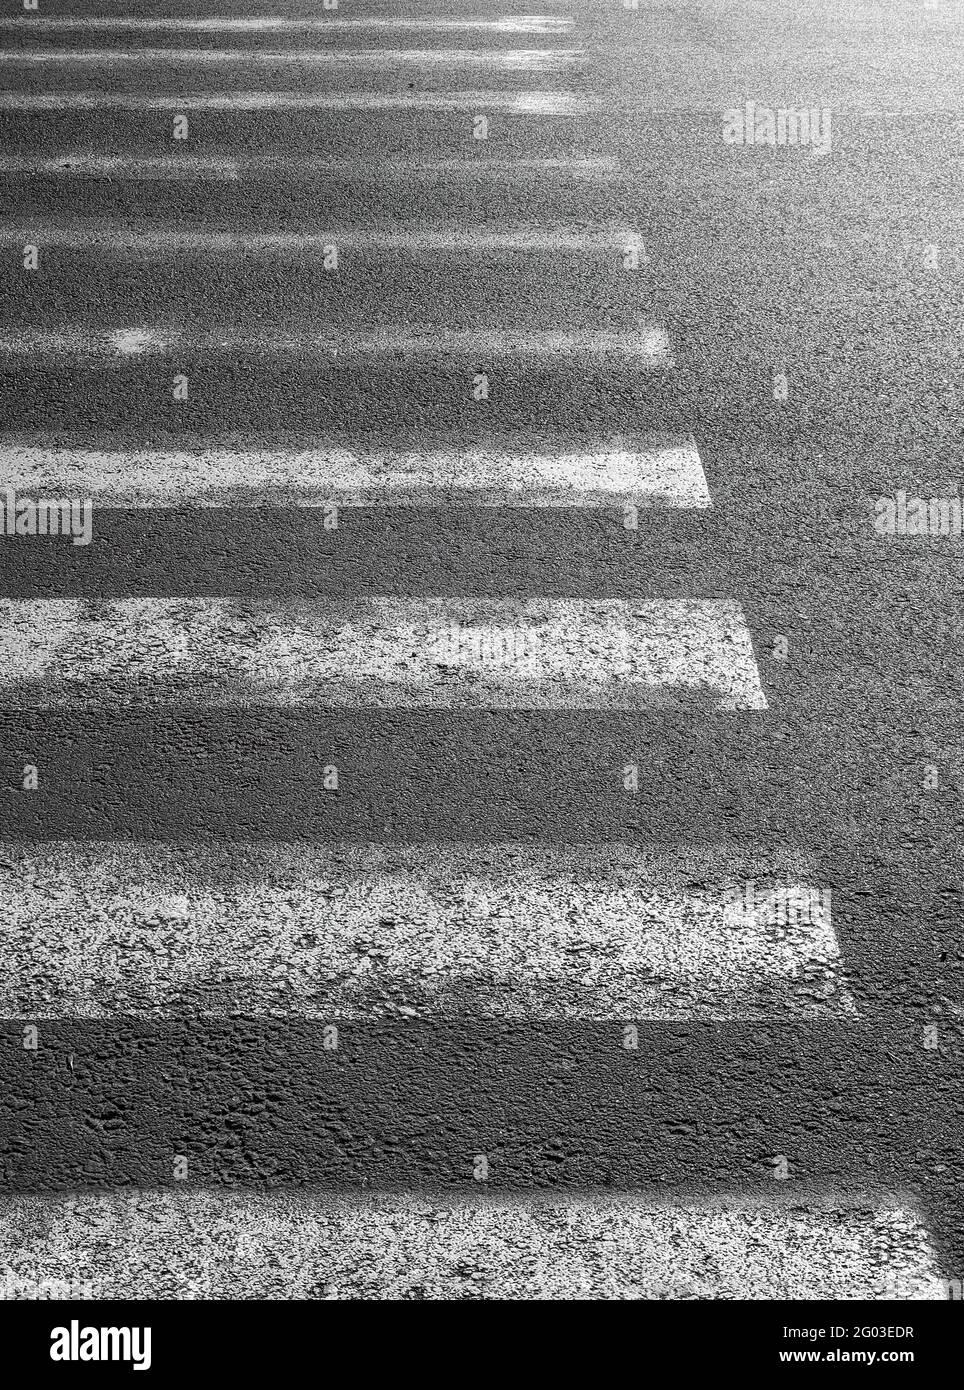faded_road_lines: (0, 831, 880, 1060), (0, 1178, 958, 1306), (0, 590, 777, 735), (0, 420, 719, 527), (0, 312, 679, 380), (0, 219, 661, 277), (0, 81, 627, 130), (0, 40, 612, 89), (0, 144, 643, 189), (0, 6, 592, 45)
